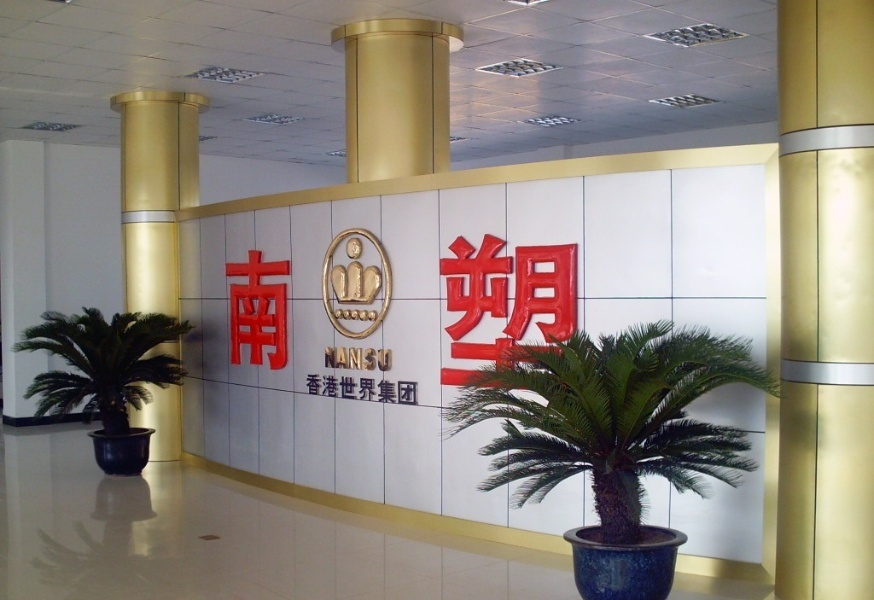text: (449, 234, 464, 389), (465, 234, 480, 389), (481, 234, 496, 389), (497, 234, 512, 389), (513, 234, 528, 389), (529, 234, 544, 389), (545, 234, 560, 389), (561, 234, 576, 389), (435, 234, 448, 389), (225, 249, 240, 373), (241, 249, 256, 373), (257, 249, 272, 373), (273, 249, 288, 373), (577, 234, 583, 389), (289, 249, 294, 373), (321, 372, 336, 408), (337, 372, 352, 408), (353, 372, 368, 408), (369, 372, 384, 408), (385, 372, 400, 408), (401, 372, 416, 408), (307, 372, 320, 408), (337, 345, 352, 373), (353, 345, 368, 373), (369, 345, 384, 373), (323, 345, 336, 373), (222, 249, 224, 373), (385, 345, 393, 373), (417, 372, 420, 408)
